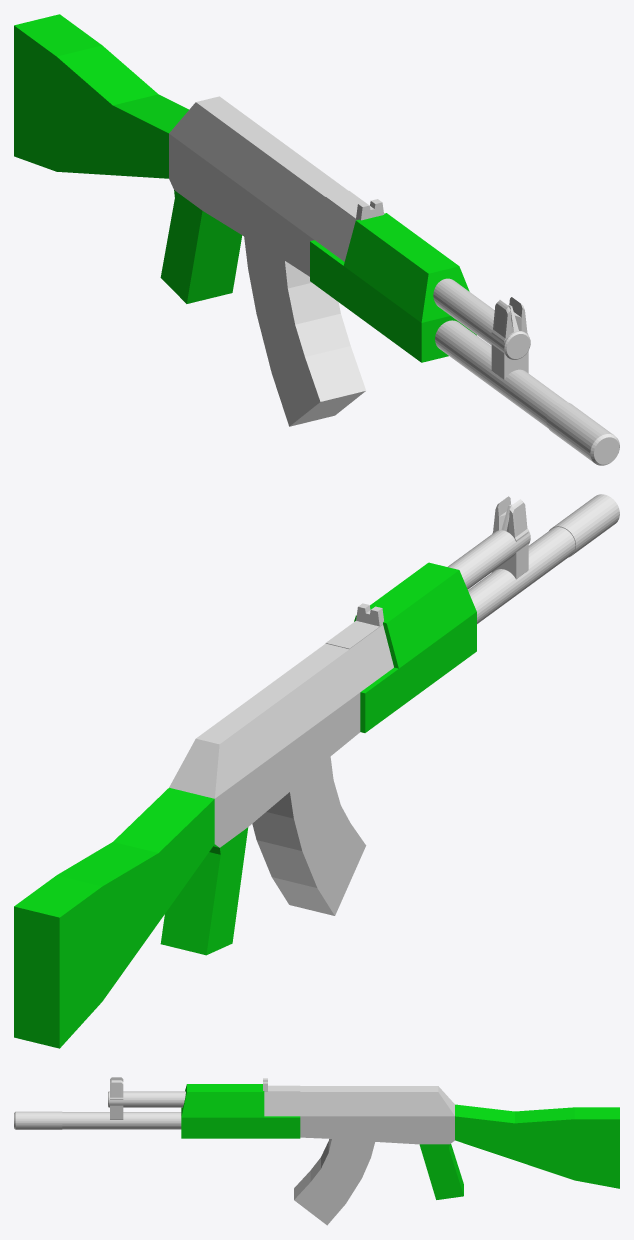
Rendered from Akm Draft.fbx.
3 renders of one model, top to bottom at view 1: azimuth 30°, elevation 25°; view 2: azimuth 150°, elevation 25°; view 3: azimuth 270°, elevation 25°, orthographic. The views are drawn at different scales.
Parts seen in each view (by area): view 1: Cube; view 2: Cube; view 3: Cube.
Boxes of the visible parts, x1,y1,x2,y2 form: Cube: (14,14,619,465); Cube: (14,494,619,1048); Cube: (14,1077,619,1225).
Size of the model in its own units: 37.79 by 173 by 675.
